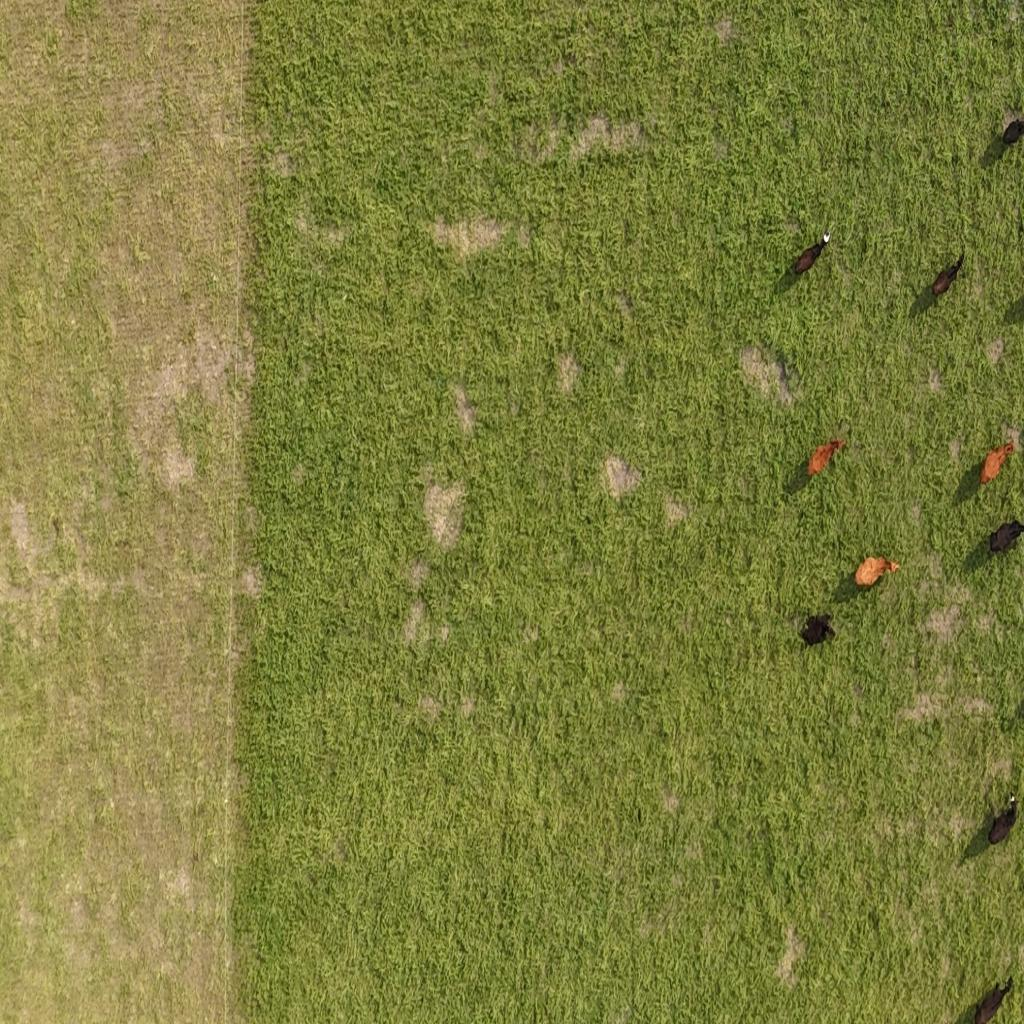cow: (975, 791, 1021, 856), (962, 974, 1014, 1024), (852, 551, 903, 594), (794, 228, 832, 278), (982, 514, 1024, 559), (978, 441, 1015, 487), (808, 437, 846, 478), (932, 252, 965, 298), (991, 116, 1024, 160), (800, 613, 835, 647), (1008, 116, 1024, 147), (1020, 218, 1024, 244)
